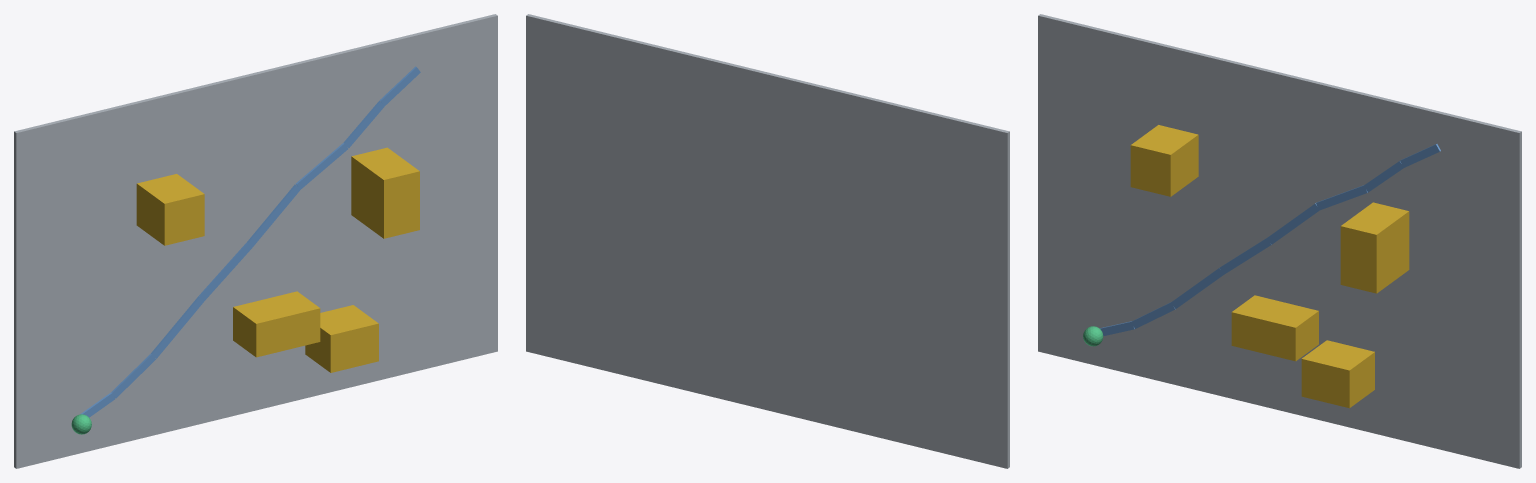
The model's file is map_scene.glb.
3 views of the same model, side by side, from view 1: azimuth 30°, elevation 25°; view 2: azimuth 150°, elevation 25°; view 3: azimuth 330°, elevation 25° (orthographic).
Visible parts, largest first — view 1: Ground, Obstacle3, Obstacle2, Obstacle1, Obstacle4, Path5, Path3, Path4, Path6; view 2: Ground; view 3: Ground, Obstacle3, Obstacle2, Obstacle4, Obstacle1, Path3, Path5, Path4.
Boxes of the visible parts, bbox=[...] form: Ground: bbox=[14, 14, 497, 468]; Obstacle3: bbox=[351, 147, 419, 238]; Obstacle2: bbox=[233, 291, 320, 357]; Obstacle1: bbox=[136, 174, 204, 245]; Obstacle4: bbox=[305, 305, 378, 372]; Path5: bbox=[247, 184, 300, 247]; Path3: bbox=[151, 296, 204, 358]; Path4: bbox=[199, 242, 252, 300]; Path6: bbox=[295, 143, 348, 188]; Ground: bbox=[526, 14, 1009, 468]; Ground: bbox=[1038, 14, 1521, 468]; Obstacle3: bbox=[1340, 202, 1409, 293]; Obstacle2: bbox=[1231, 295, 1318, 361]; Obstacle4: bbox=[1301, 340, 1374, 408]; Obstacle1: bbox=[1130, 125, 1198, 196]; Path3: bbox=[1171, 268, 1223, 308]; Path5: bbox=[1267, 203, 1319, 244]; Path4: bbox=[1219, 238, 1271, 274].
Bounding box in the file's own units: 12 × 8 × 1.5.
